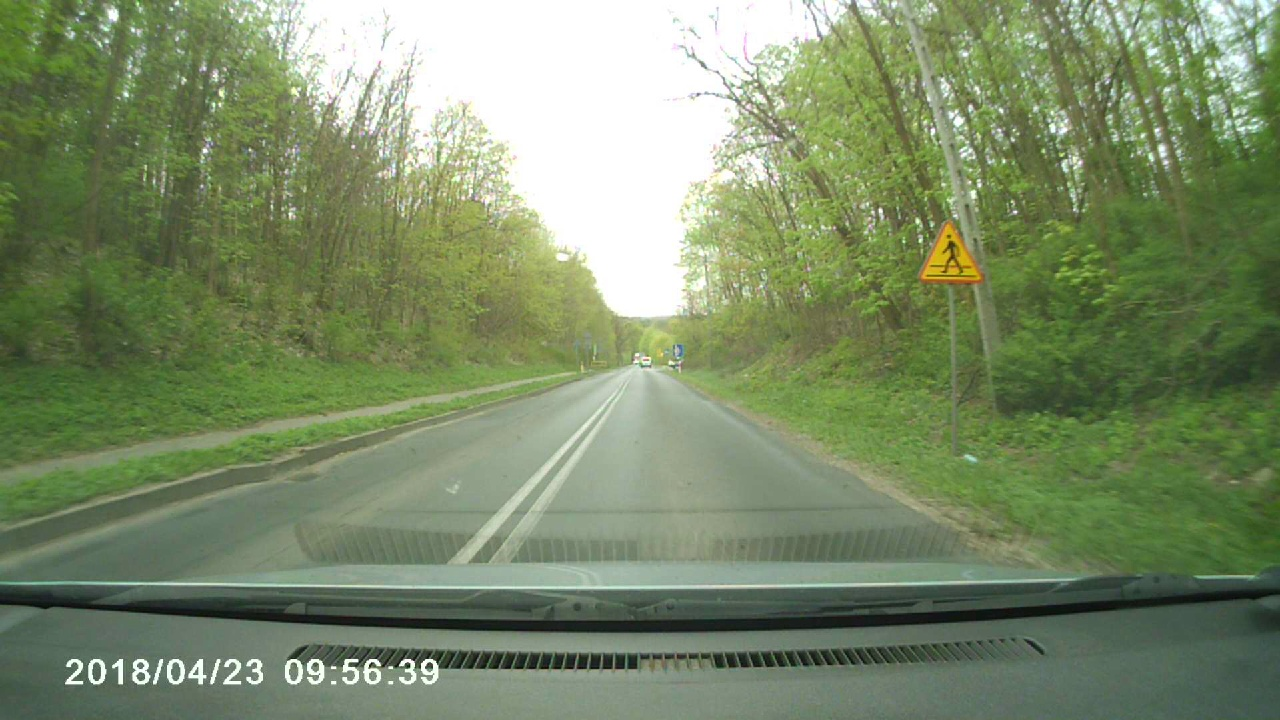A16: (918, 220, 986, 285)
